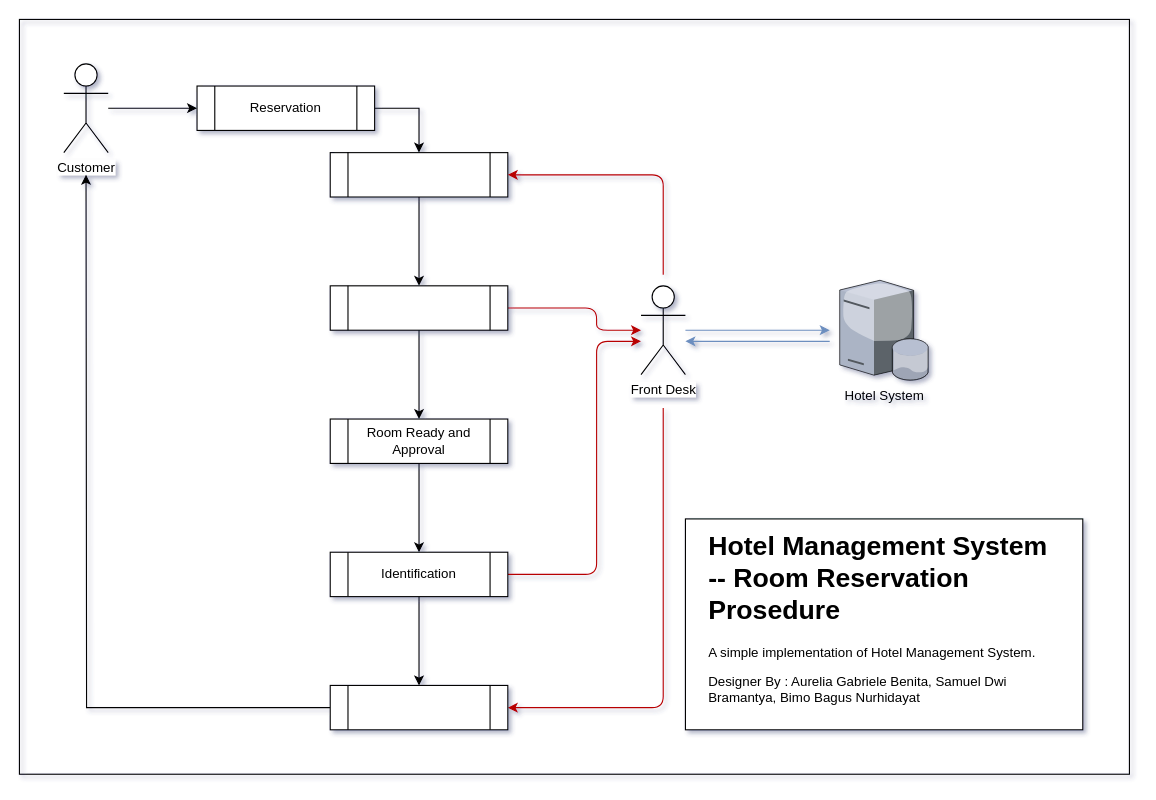
Some shapes in this 1156 by 800 pixel diagram are drawn without their labels. The centre of each missing label's shape, as x and y in pixels:
Choose Room: (x=418, y=307)
Room Key Handover: (x=418, y=707)
Room List: (x=418, y=174)
